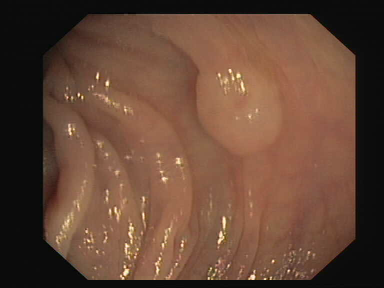polyp: (174, 54, 311, 163)
